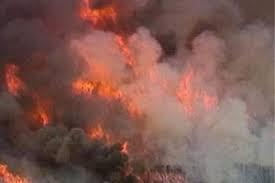fire: (174, 64, 221, 114)
